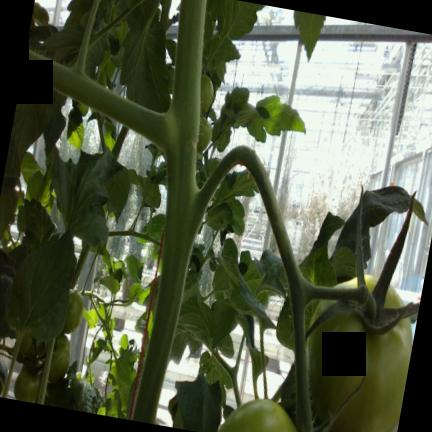6kp_peduncle: (161, 107, 279, 287)
6kp_petiole: (78, 25, 204, 268)
MainStem: (130, 0, 208, 421)
tomato: (307, 194, 419, 432), (217, 399, 297, 432), (48, 334, 71, 383), (14, 365, 42, 403), (62, 290, 84, 333), (19, 333, 43, 359), (197, 115, 212, 152), (200, 75, 213, 114)
